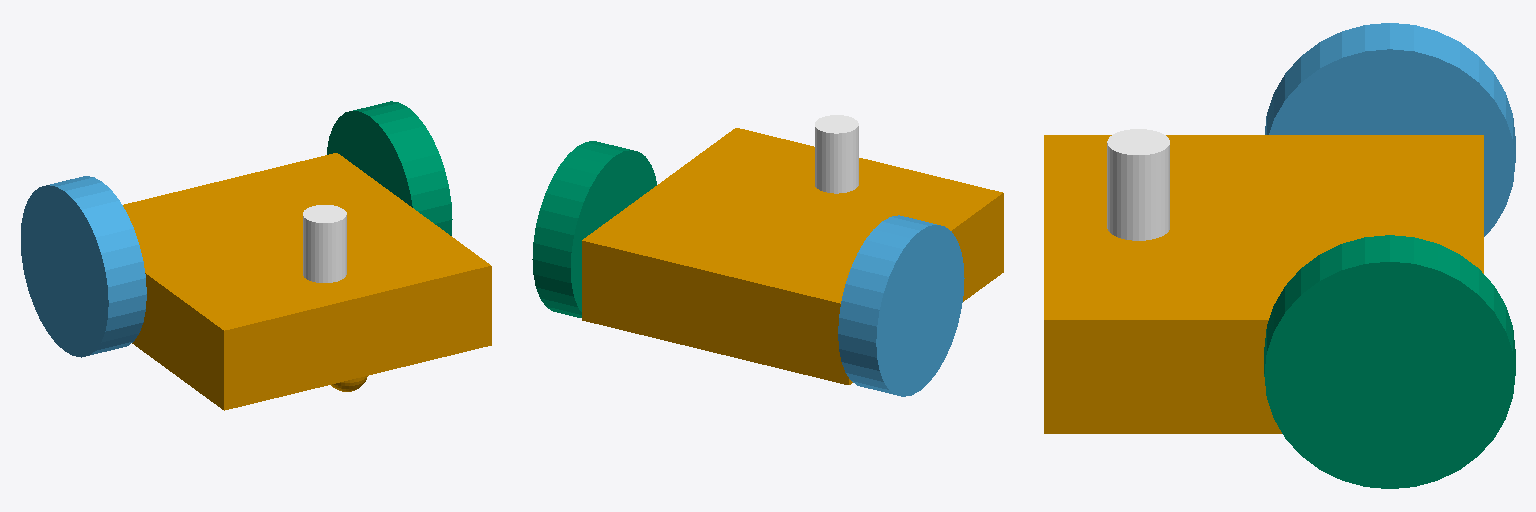
URDF robot description (my_mm_robot):
<?xml version="1.0" ?>

<robot name="my_mm_robot" xmlns:xacro="https://www.ros.org/wiki/xacro" >
    
  <material name="black">
    <color rgba="0.0 0.0 0.0 1.0"/>
  </material>
  <material name="blue">
    <color rgba="0.203125 0.23828125 0.28515625 1.0"/>
  </material>
  <material name="green">
    <color rgba="0.0 0.8 0.0 1.0"/>
  </material>
  <material name="grey">
    <color rgba="0.2 0.2 0.2 1.0"/>
  </material>
  <material name="orange">
    <color rgba="1.0 0.423529411765 0.0392156862745 1.0"/>
  </material>
  <material name="brown">
    <color rgba="0.870588235294 0.811764705882 0.764705882353 1.0"/>
  </material>
  <material name="red">
    <color rgba="0.80078125 0.12890625 0.1328125 1.0"/>
  </material>
  <material name="white">
    <color rgba="1.0 1.0 1.0 1.0"/>
  </material>  
  
  <gazebo reference="link_chassis">
    <material>Gazebo/Orange</material>
  </gazebo>
  <gazebo reference="link_left_wheel">
    <material>Gazebo/Black</material>
  </gazebo>
  <gazebo reference="link_right_wheel">
    <material>Gazebo/Black</material>
  </gazebo>
    
  <link name="link_chassis">
    <!-- pose and inertial -->
    <pose>0 0 0.1 0 0 0</pose>
    
    <inertial>
      <mass value="0.5"/>
      <origin rpy="0  0  0" xyz="0 0.01 0"/>
      <inertia ixx="0.00022083" ixy="0" ixz="0" iyy="0.00022083" iyz="0" izz="0.00040833"/>
    </inertial>
    
    <collision name="link_chassis_collision">
      <origin rpy="0  0  0" xyz="0     0    -0.005"/>
      <geometry>
        <box size="0.07 0.07 0.02"/>
      </geometry>
    </collision>
    
    <visual name="link_chassis_visual">
      <origin rpy="0  0  0" xyz="0     0    -0.005"/>
      <geometry>
        <box size="0.07 0.07 0.02"/>
      </geometry>
    </visual>
    
    <!-- caster front -->
    <collision name="caster_front_collision">
      <origin rpy="0  0  0" xyz="0     -0.03  -0.015"/>
      <geometry>
        <sphere radius="0.005"/>
      </geometry>
      <surface>
        <friction>
          <ode>
            <mu>100</mu>
            <mu2>100</mu2>
            <slip1>1000.0</slip1>
            <slip2>1000.0</slip2>
          </ode>
        </friction>
      </surface>
    </collision>
    
    <visual name="castor_front_visual">
      <origin rpy="0  0  0" xyz="0   -0.03  -0.015"/>
      <geometry>
        <sphere radius="0.005"/>
      </geometry>
    </visual>
</link>
  
  <!-- Create wheel right -->  
    
  <link name="link_right_wheel">    
    <inertial>
      <mass value="0.2"/>
      <origin rpy="0 1.5707 0" xyz="0 0 0"/>
      <inertia ixx="2.3e-06" ixy="0" ixz="0" iyy="2.3e-06" iyz="0" izz="4.5e-06"/>
    </inertial>
    
    <collision name="link_right_wheel_collision">
      <origin rpy="0 1.5707 0" xyz="0 0 0"/>
      <geometry>
        <cylinder length="0.01" radius="0.02"/>
      </geometry>
    </collision>
    
    <visual name="link_right_wheel_visual">
      <origin rpy="0 1.5707 0" xyz="0 0 0"/>
      <geometry>
        <cylinder length="0.01" radius="0.02"/>
      </geometry>      
    </visual>
    
  </link>
    
  <!--   Joint for right wheel  -->
  <joint name="joint_right_wheel" type="continuous">
    <origin rpy="0 0 0" xyz="-0.04  0.02    0"/>
    <child link="link_right_wheel" />
    <parent link="link_chassis"/>
    <axis rpy="0 0 0" xyz="1 0 0"/>
    <limit effort="5" velocity="6"/>
    <joint_properties damping="10000.0" friction="10000.0" />
  </joint>  
  <transmission name="right_wheel_trans">
     <type>transmission_interface/SimpleTransmission</type>
     <actuator name="right_wheel_motor">
       <hardwareInterface>VelocityJointInterface</hardwareInterface>
       <mechanicalReduction>7</mechanicalReduction>
     </actuator>
     <joint name="joint_right_wheel">
       <hardwareInterface>VelocityJointInterface</hardwareInterface>
     </joint>
  </transmission>
    
  <!-- Left Wheel link -->
    
  <link name="link_left_wheel">    
    <inertial>
      <mass value="0.2"/>
      <origin rpy="0 1.5707 0" xyz="0 0 0"/>
      <inertia ixx="2.3e-06" ixy="0" ixz="0" iyy="2.3e-06" iyz="0" izz="4.5e-06"/>
    </inertial>
    
    <collision name="link_left_wheel_collision">
      <origin rpy="0 1.5707 0" xyz="0 0 0"/>
      <geometry>
        <cylinder length="0.01" radius="0.02"/>
      </geometry>
    </collision>
    
    <visual name="link_left_wheel_visual">
      <origin rpy="0 1.5707 0" xyz="0 0 0"/>
      <geometry>
        <cylinder length="0.01" radius="0.02"/>
      </geometry>      
    </visual>
    
  </link>
    
  <!--   Joint for right wheel  -->
  <joint name="joint_left_wheel" type="continuous">
    <origin rpy="0 0 0" xyz="0.04 0.02 0"/>
    <child link="link_left_wheel" />
    <parent link="link_chassis"/>
    <axis rpy="0 0 0" xyz="1 0 0"/>
    <limit effort="5" velocity="6"/>
    <joint_properties damping="10000.0" friction="10000.0" />
  </joint> 
  <transmission name="left_wheel_trans">
     <type>transmission_interface/SimpleTransmission</type>
     <actuator name="left_wheel_motor">
       <hardwareInterface>VelocityJointInterface</hardwareInterface>
       <mechanicalReduction>7</mechanicalReduction>
     </actuator>
     <joint name="joint_left_wheel">
       <hardwareInterface>VelocityJointInterface</hardwareInterface>
     </joint>
  </transmission>


  <gazebo>
    <plugin filename="libgazebo_ros_diff_drive.so" name="differential_drive_controller">
      <alwaysOn>true</alwaysOn>
      <updateRate>20</updateRate>
      <leftJoint>joint_left_wheel</leftJoint>
      <rightJoint>joint_right_wheel</rightJoint>
      <wheelSeparation>0.4</wheelSeparation>
      <wheelDiameter>0.2</wheelDiameter>
      <torque>0.1</torque>
      <commandTopic>cmd_vel</commandTopic>
      <odometryTopic>odom</odometryTopic>
      <odometryFrame>odom</odometryFrame>
      <robotBaseFrame>link_chassis</robotBaseFrame>
    </plugin>
  </gazebo>



    <!-- 
    Adding a laser scan sensor to the robot 
  -->
  <link name="sensor_laser">
    <inertial>
      <origin xyz="0 0 0" rpy="0 0 0" />
      <mass value="0.01" />
      <inertia ixx="0.02" ixy="0" ixz="0" iyy="0.02" iyz="0" izz="0.02"/> 
    </inertial>

    <visual>
      <origin xyz="0.02 0 0" rpy="0 0 0" />
      <geometry>
        <cylinder radius="0.005" length="0.02"/>
      </geometry>
      <material name="white" />
    </visual>

    <collision>
      <origin xyz="0 0 0" rpy="0 0 0"/>
      <geometry>
        <cylinder radius="0.005" length="0.001"/>
      </geometry>
    </collision>
  </link>

  <joint name="joint_sensor_laser" type="fixed">
    <origin rpy="0  0  -1.57" xyz="0    0    0.01"/>
    <parent link="link_chassis"/>
    <child link="sensor_laser"/>
  </joint>


  <gazebo reference="sensor_laser">
    <sensor type="ray" name="head_hokuyo_sensor">
      <pose>0 0 0 0 0 0</pose>
      <visualize>true</visualize>
      <update_rate>20</update_rate>
      <ray>
        <scan>
          <horizontal>
            <samples>360</samples>
            <resolution>1</resolution>
            <min_angle>-1.570796</min_angle>
            <max_angle>1.570796</max_angle>
          </horizontal>
        </scan>
        <range>
          <min>0.04</min>
          <max>10.0</max>
          <resolution>0.01</resolution>
        </range>
      </ray>
      <plugin name="gazebo_ros_head_hokuyo_controller" filename="libgazebo_ros_laser.so">
        <topicName>/my_mm_robot/laser/scan</topicName>
        <frameName>link_chassis</frameName>
      </plugin>
    </sensor>
  </gazebo>

  <!-- <gazebo> 
    <plugin name="gazebo_ros_control" filename="libgazebo_ros_control.so">
      <robotNamespace>/simple_model</robotNamespace>
      <legacyModeNS>true</legacyModeNS>
      <robotSimType>gazebo_ros_control/DefaultRobotHWSim</robotSimType>
    </plugin>
  </gazebo>-->
  
</robot>

--- What the picture shows (computed from the rendered views, not written in the file) ---
The picture shows the robot from 3 angles, left to right: view 1: azimuth 30°, elevation 25°; view 2: azimuth 150°, elevation 25°; view 3: azimuth 270°, elevation 25°; orthographic projection.
Robot: my_mm_robot — 4 links, 3 joints (2 continuous, 1 fixed); root link link_chassis; default pose: all joints at 0.
Links seen in each view (by area): view 1: link_chassis, link_right_wheel, link_left_wheel, sensor_laser; view 2: link_chassis, link_right_wheel, link_left_wheel, sensor_laser; view 3: link_chassis, link_left_wheel, link_right_wheel, sensor_laser.
Boxes of the visible links, x1=… form: link_chassis: x1=123, y1=153, x2=491, y2=410; link_right_wheel: x1=21, y1=176, x2=146, y2=357; link_left_wheel: x1=327, y1=101, x2=452, y2=235; sensor_laser: x1=303, y1=205, x2=346, y2=282; link_chassis: x1=582, y1=128, x2=1003, y2=384; link_right_wheel: x1=838, y1=215, x2=964, y2=396; link_left_wheel: x1=532, y1=141, x2=656, y2=317; sensor_laser: x1=815, y1=115, x2=858, y2=193; link_chassis: x1=1044, y1=135, x2=1483, y2=433; link_left_wheel: x1=1264, y1=235, x2=1515, y2=488; link_right_wheel: x1=1265, y1=23, x2=1515, y2=236; sensor_laser: x1=1107, y1=129, x2=1169, y2=240.
Size in the robot's own frame: 0.09 by 0.075 by 0.04 metres.
Geometry: primitives only (box / cylinder / sphere), no mesh files.
